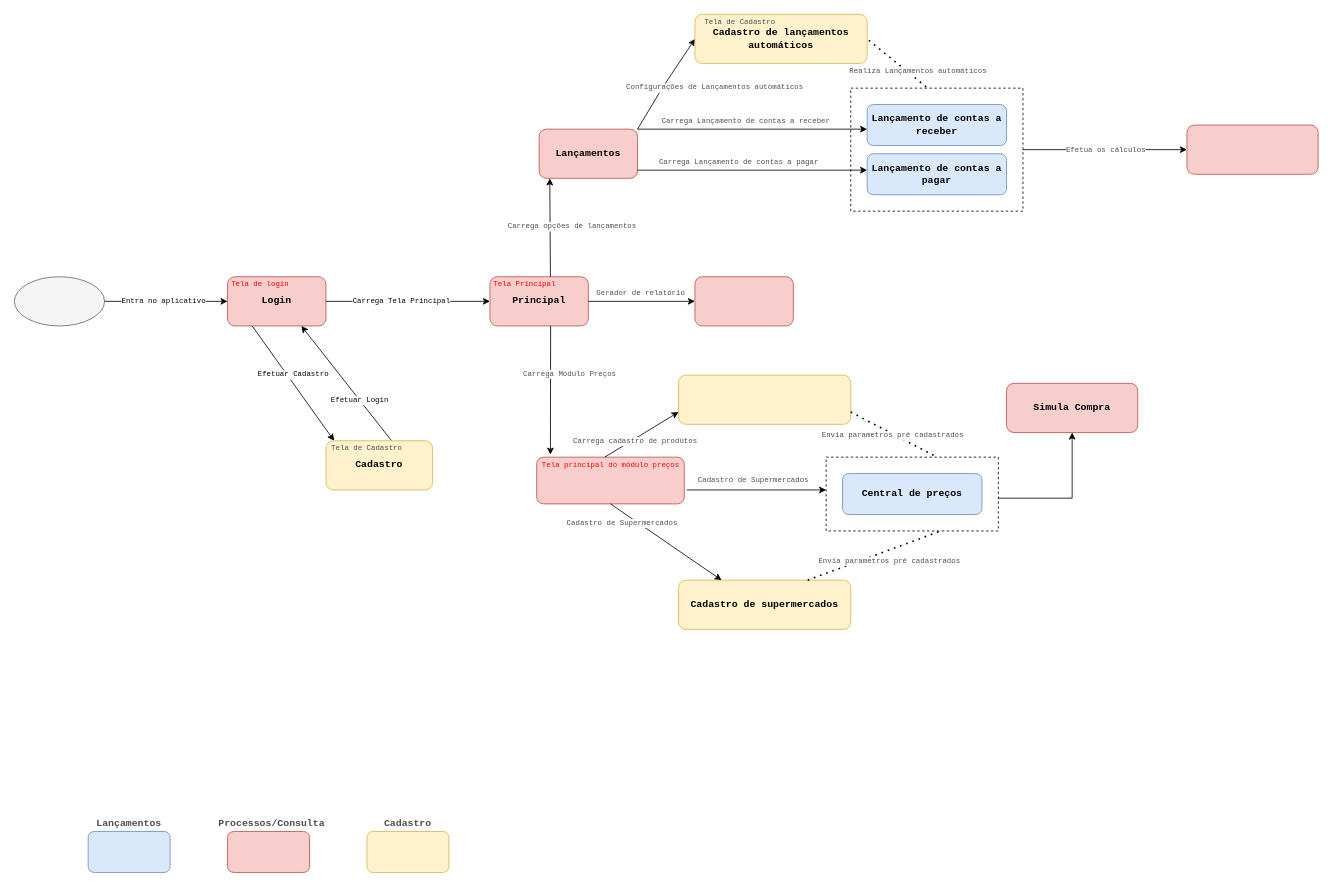
This 1333x887 diagram has some shape labels left out. Here are the shapes that lost their labels. From the top down, the box of each, then its label:
(1186, 124, 1318, 174): Central de contas
(14, 276, 105, 326): Usuário
(694, 276, 793, 326): Relatórios
(678, 374, 851, 424): Cadastro de Produtos
(536, 456, 684, 504): Principal(Preços)
